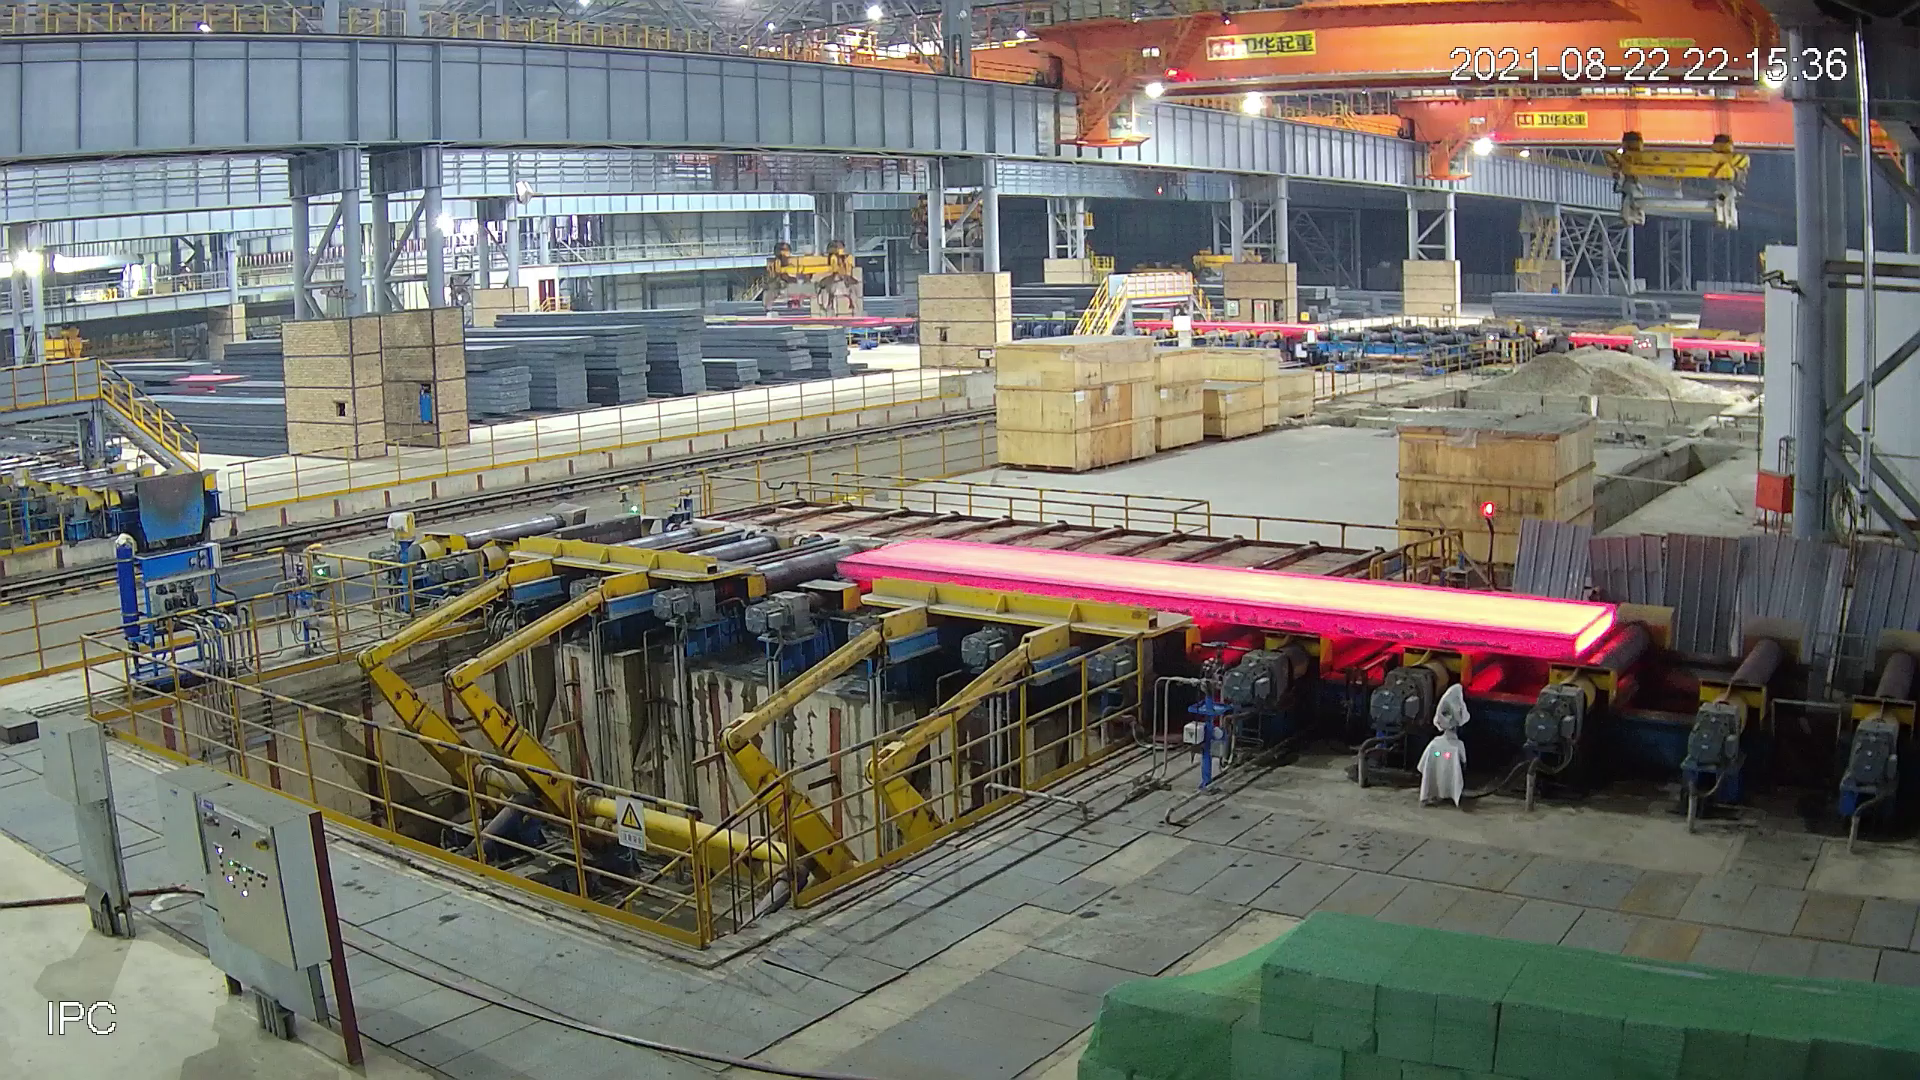slab: (837, 538, 1617, 657)
